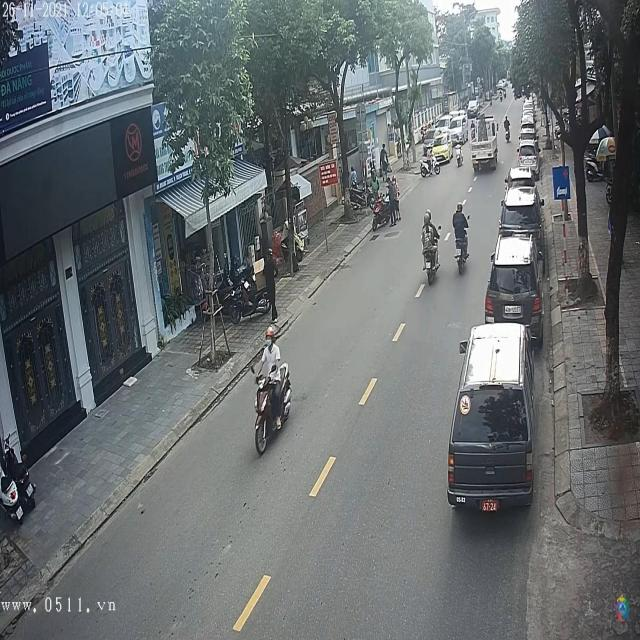car: (446, 326, 532, 515), (485, 238, 543, 334), (499, 187, 545, 236), (517, 143, 539, 170), (517, 125, 537, 142)
motorcycle: (251, 363, 295, 455), (422, 241, 442, 287), (455, 230, 470, 278), (419, 159, 437, 178)
truck: (468, 117, 499, 173)
